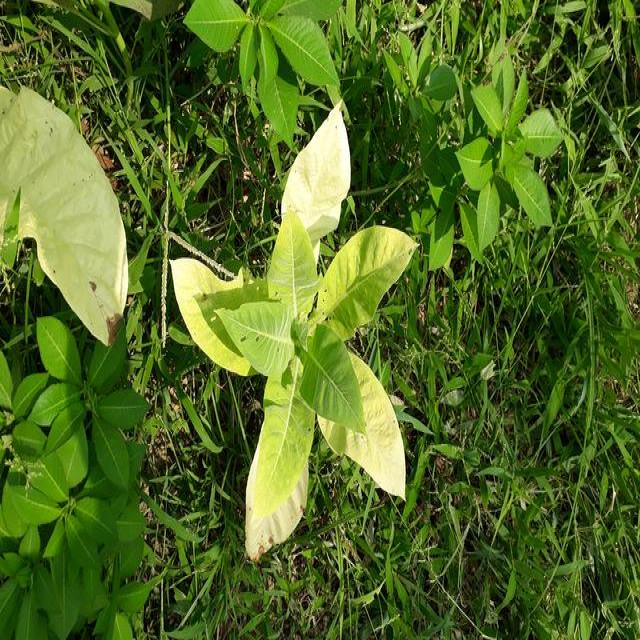crop: (170, 98, 410, 558)
